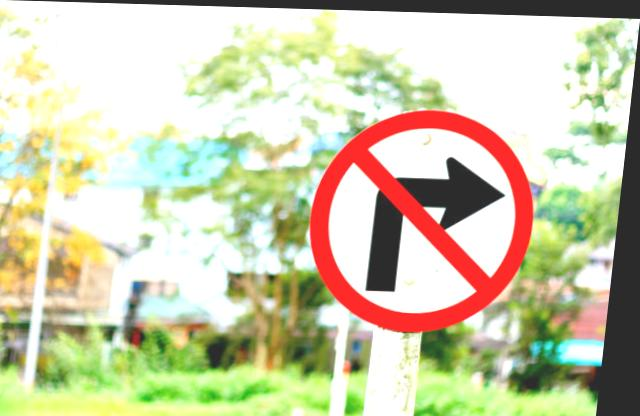not_turn_right: (305, 102, 549, 330)
